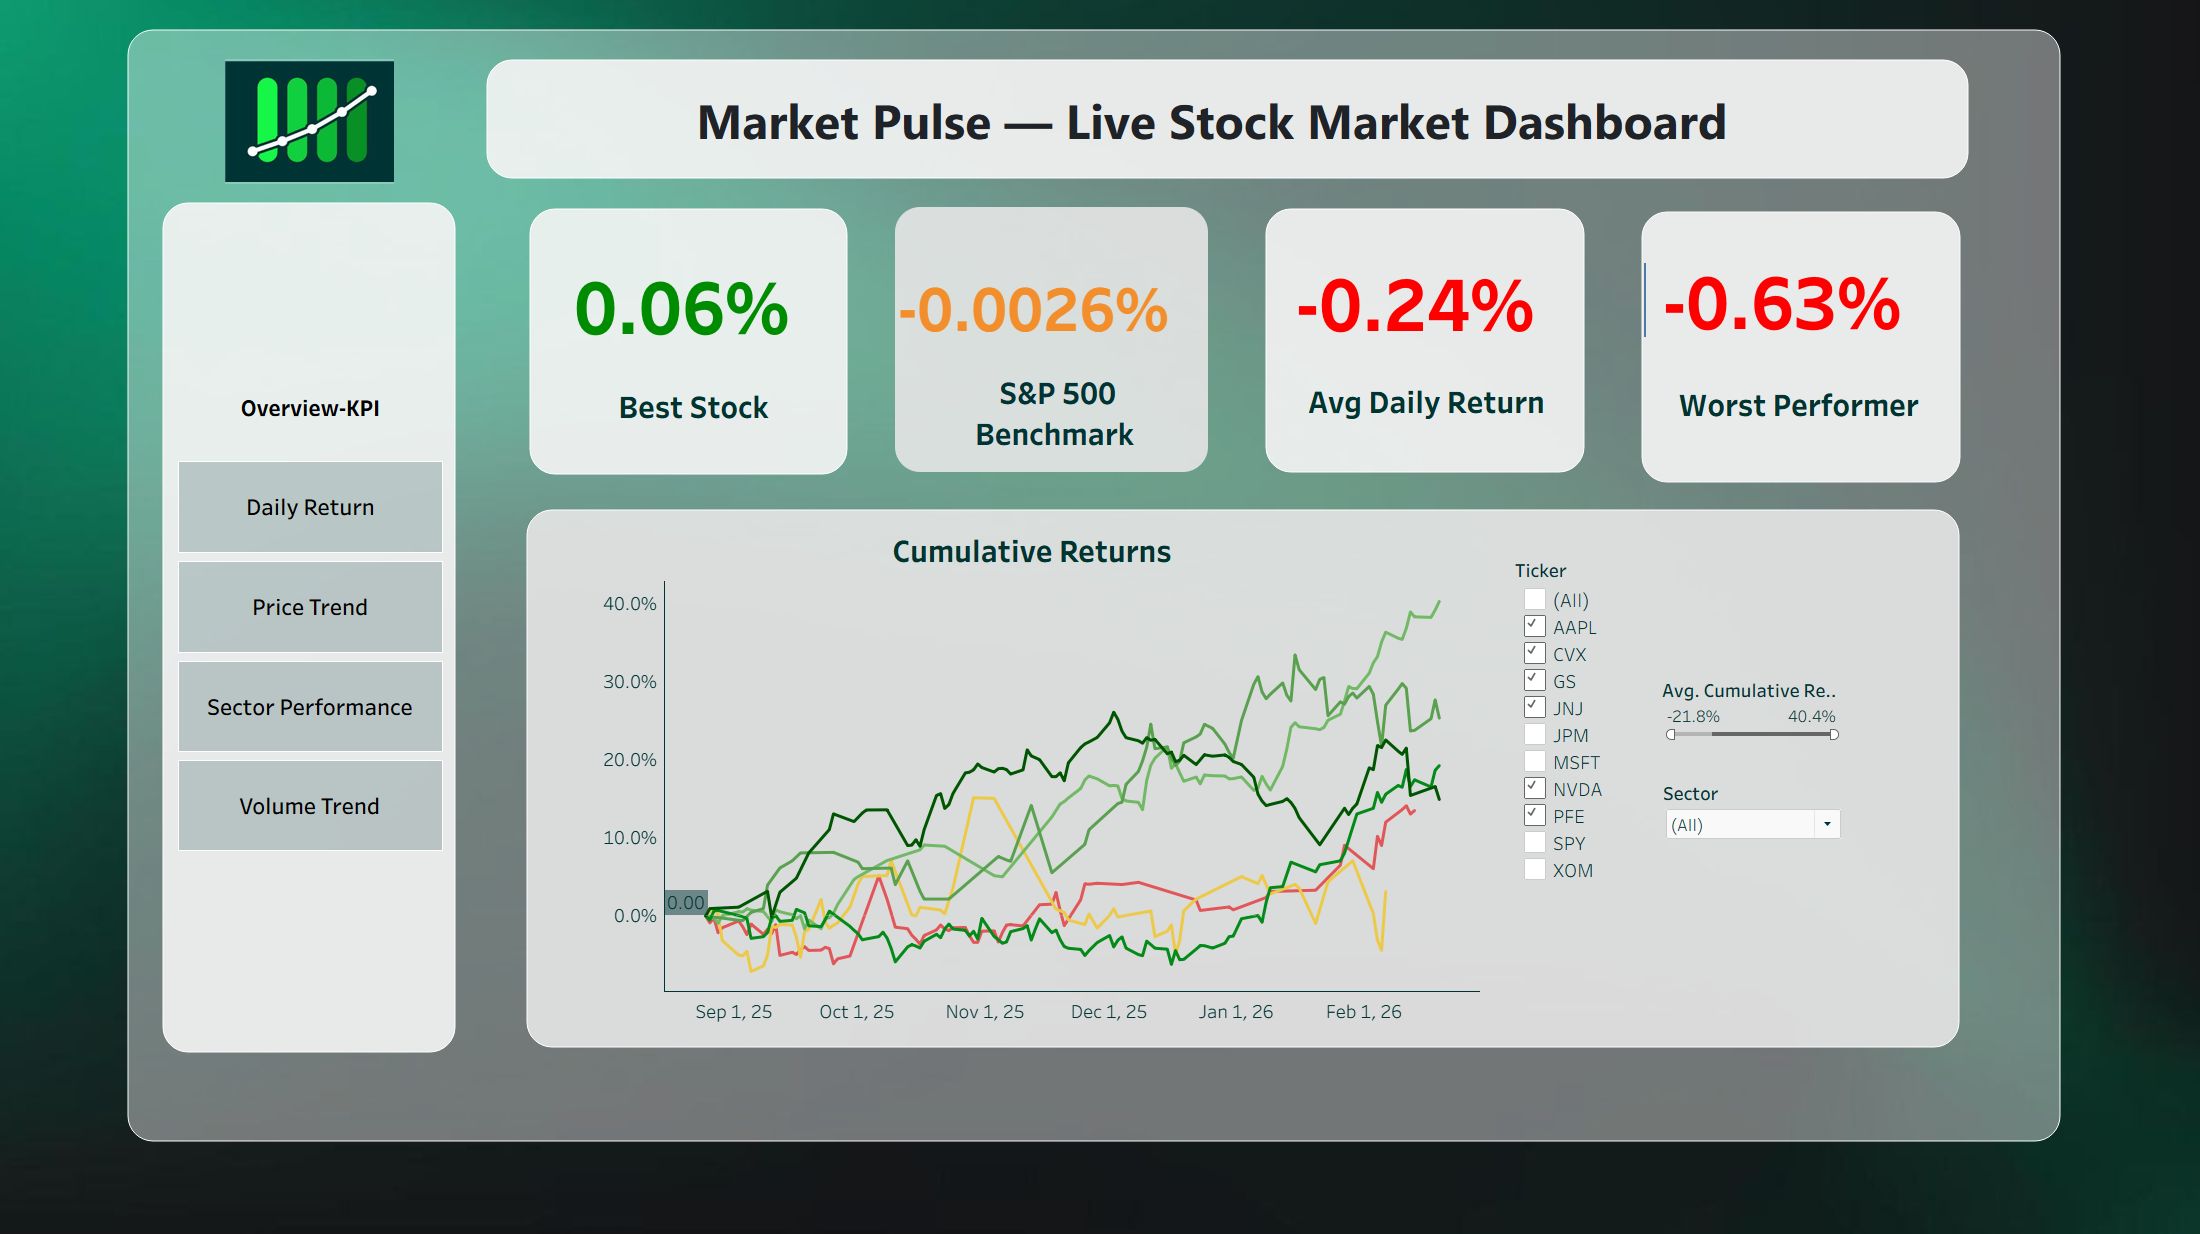

What the dashboard file says about the page in this screenshot:
{"tool":"tableau","page":{"name":"Main Dashboard","canvas":[1000,1000],"units":"permille","ordinal":1},"visuals":[{"type":"image","param":"C:/Users/samor/OneDrive/Desktop/4067d5a5f7cf7e6f15b997b1403af699.jpg","box":[0,0,861.2,863.4]},{"type":"worksheet","title":"main-D ","mark":"Automatic","box":[15,16.6,820.5,827]},{"type":"image","param":"C:/Users/samor/AppData/Local/Temp/TableauTemp/0qbzxmv0kf742318mn2140u93hgg/Sheet","box":[87.5,56.1,69,89.3]},{"type":"text","box":[209.1,71.9,531.4,55.3]},{"type":"worksheet","title":"KPI — Worst Performer","mark":"Bar","rows":["Ticker"],"box":[643.2,187.2,121.1,79]},{"type":"worksheet","title":"KPI — Avg Return","mark":"Text","box":[500.9,188.8,115.4,79.8]},{"type":"worksheet","title":"KPI — Best Stock","mark":"Text","rows":["Ticker"],"box":[217.5,190.4,107.9,80.6]},{"type":"worksheet","title":"KPI — Benchmark","mark":"Automatic","rows":["Ticker"],"box":[350.1,197.5,129.1,75.8]},{"type":"text","box":[367.8,254.3,90.2,82.2]},{"type":"text","box":[69.1,258.2,106.6,66.9]},{"type":"text","box":[226.8,271.7,90.2,37.9]},{"type":"text","box":[504.4,271.7,108.3,32.4]},{"type":"text","box":[649.4,273.3,108.3,32.4]},{"type":"dashboard-object","box":[69.1,325.1,106.6,66.9]},{"type":"worksheet","title":"Cumulative Returns","mark":"Area","rows":["Calculation_0243583189655553"],"cols":["Date"],"box":[246.2,370.5,333.3,333.3]},{"type":"dashboard-object","box":[69.1,392,106.6,66.9]},{"type":"filter","title":"Cumulative Returns","param":"[federated.1v5bl0h08547lg1gbtx6f1lob0uy].[none:Sector:nk]","box":[677.3,416.3,70.7,153.2]},{"type":"filter","title":"Cumulative Returns","param":"[federated.1v5bl0h08547lg1gbtx6f1lob0uy].[none:Ticker:nk]","box":[593.7,418.6,70.7,259.9]},{"type":"dashboard-object","box":[69.1,458.9,106.6,66.2]},{"type":"dashboard-object","box":[69.1,525.1,106.6,66.2]},{"type":"filter","title":"Cumulative Returns","param":"[federated.1v5bl0h08547lg1gbtx6f1lob0uy].[avg:Calculation_0243583189655553:qk]","box":[677.7,584.5,70.7,54.5]}]}

Visuals, with their boxes on the dashboard's canvas, which has no fixed pixel size, in thousandths of its width and height (x1, y1, x2, y2). These are canvas units, not pixel positions in the 2200x1234 screenshot, which may show the page scaled, cropped or inside an application window:
image: (x1=0, y1=0, x2=861, y2=863)
"main-D " worksheet: (x1=15, y1=17, x2=836, y2=844)
image: (x1=88, y1=56, x2=156, y2=145)
text: (x1=209, y1=72, x2=740, y2=127)
"KPI — Worst Performer" worksheet (Bar marks): (x1=643, y1=187, x2=764, y2=266)
"KPI — Avg Return" worksheet (Text marks): (x1=501, y1=189, x2=616, y2=269)
"KPI — Best Stock" worksheet (Text marks): (x1=218, y1=190, x2=325, y2=271)
"KPI — Benchmark" worksheet: (x1=350, y1=198, x2=479, y2=273)
text: (x1=368, y1=254, x2=458, y2=336)
text: (x1=69, y1=258, x2=176, y2=325)
text: (x1=227, y1=272, x2=317, y2=310)
text: (x1=504, y1=272, x2=613, y2=304)
text: (x1=649, y1=273, x2=758, y2=306)
dashboard-object: (x1=69, y1=325, x2=176, y2=392)
"Cumulative Returns" worksheet (Area marks): (x1=246, y1=370, x2=580, y2=704)
dashboard-object: (x1=69, y1=392, x2=176, y2=459)
"Cumulative Returns" filter: (x1=677, y1=416, x2=748, y2=570)
"Cumulative Returns" filter: (x1=594, y1=419, x2=664, y2=678)
dashboard-object: (x1=69, y1=459, x2=176, y2=525)
dashboard-object: (x1=69, y1=525, x2=176, y2=591)
"Cumulative Returns" filter: (x1=678, y1=584, x2=748, y2=639)
